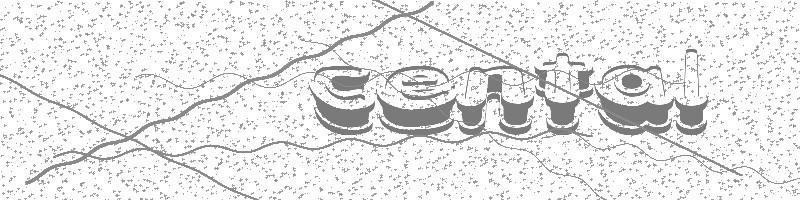a: (594, 64, 674, 135)
c: (309, 65, 377, 135)
e: (376, 65, 456, 135)
l: (675, 46, 708, 136)
n: (455, 66, 535, 135)
t: (534, 52, 594, 136)
